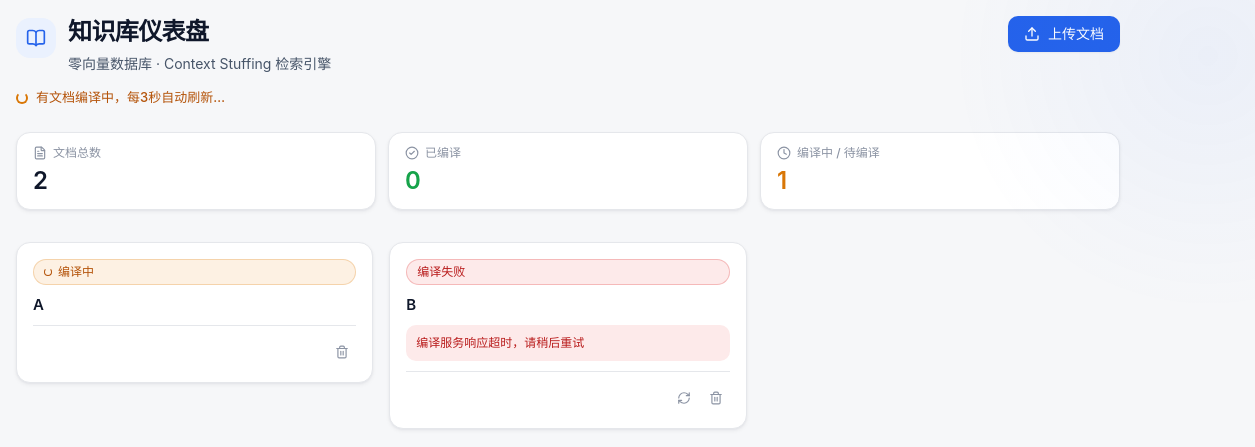
Wiki 仪表盘过期快照防护 (E004-FIX-01) › stale pre-recompile poll response cannot overwrite the optimistic compiling state
Expected: the element with test id "compiling-hint" is shown, 16,89 -> 225,105
Note: 重编译成功:doc_2 乐观进入编译中,按钮消失
Click the button with test id "recompile-btn". click: (684, 398)
box: 670,384 -> 698,412
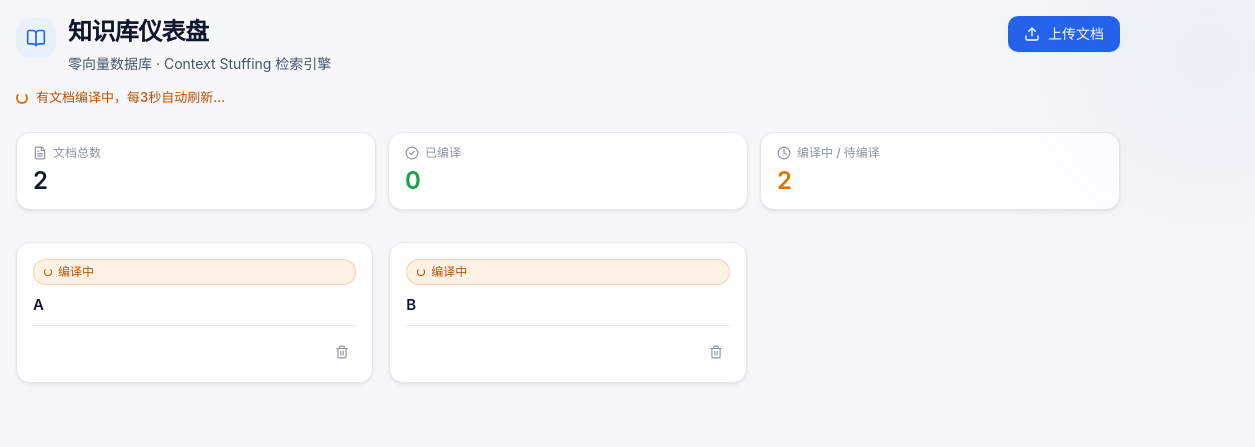
Expected: the element with test id "compiling-hint" is shown, 16,89 -> 225,105
Result: the element with test id "status-badge" reads "编译中" at 431,264 -> 467,278
Result: the button with test id "recompile-btn" is gone
